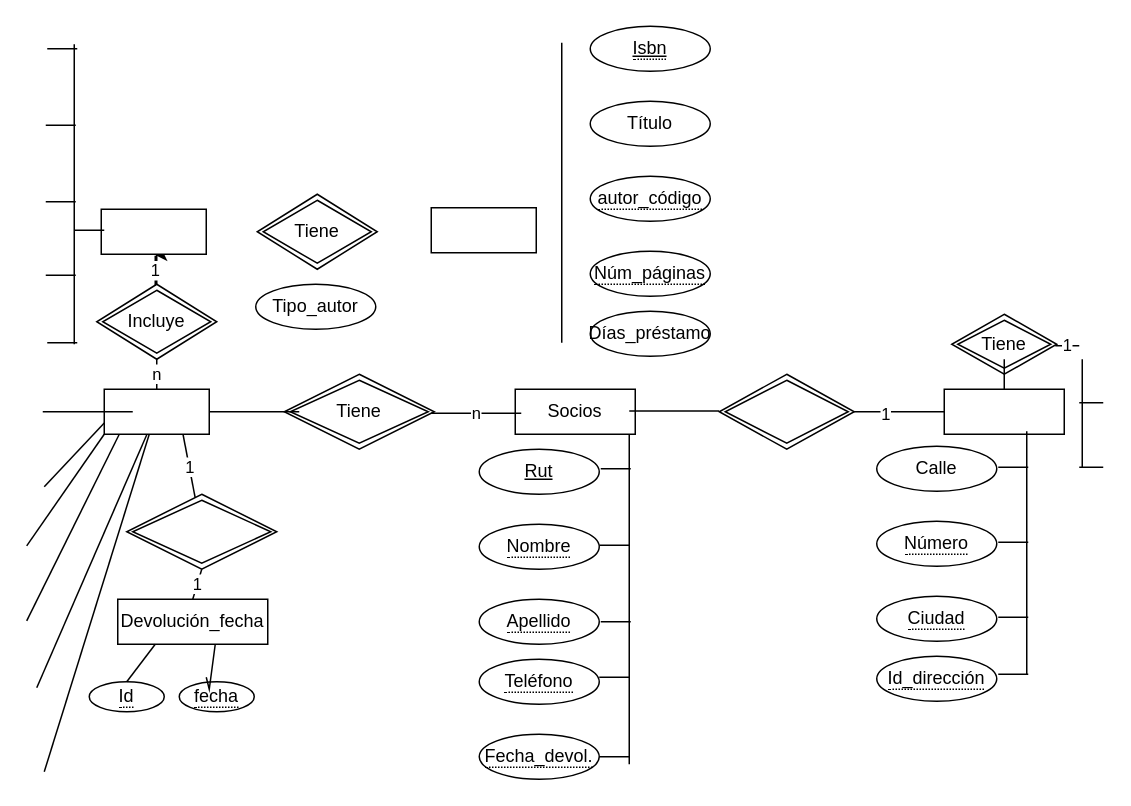
This 1131x806 diagram has some shape labels left out. The shapes that lost their labels are listed below. From the top down, each one's centre as x and y in pixels, then its label:
At (x=153, y=231): "Libros".
At (x=483, y=229): "Autores".
At (x=156, y=411): "Préstamos".
At (x=786, y=411): "Residencia".
At (x=1003, y=411): "Direcciones".
At (x=201, y=531): "Devolución".
